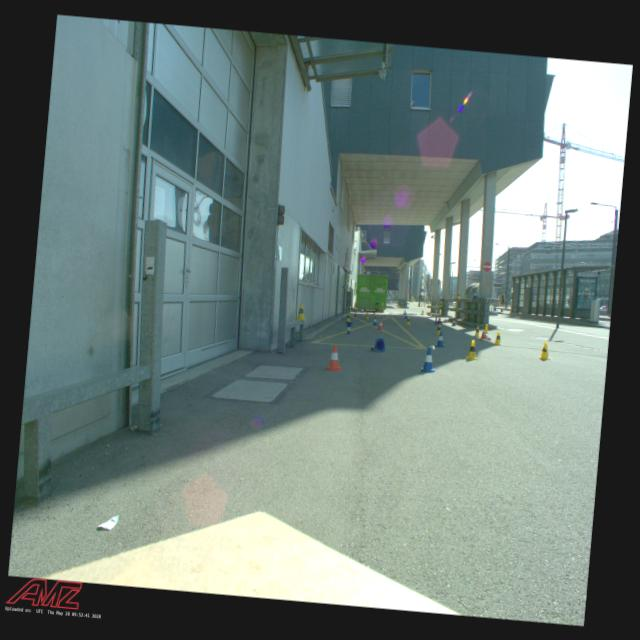blue_cone: (418, 346, 438, 373), (370, 337, 386, 353), (434, 330, 446, 347), (344, 321, 353, 334), (372, 316, 378, 326), (472, 290, 478, 298), (433, 316, 438, 324), (451, 318, 456, 326), (353, 310, 357, 317), (404, 312, 408, 318), (376, 299, 379, 304), (361, 308, 364, 312)
orange_cone: (326, 344, 344, 371), (479, 331, 492, 340), (377, 318, 384, 331), (437, 314, 441, 322), (353, 302, 356, 308), (402, 310, 406, 314)
yellow_cone: (464, 338, 481, 361), (537, 340, 552, 360), (296, 304, 306, 320), (492, 330, 502, 346), (472, 325, 480, 337), (435, 323, 442, 335), (482, 324, 490, 334), (405, 316, 412, 325), (346, 313, 352, 321), (364, 312, 369, 318), (372, 309, 376, 315), (456, 292, 460, 298), (421, 310, 424, 314), (439, 302, 442, 306)
